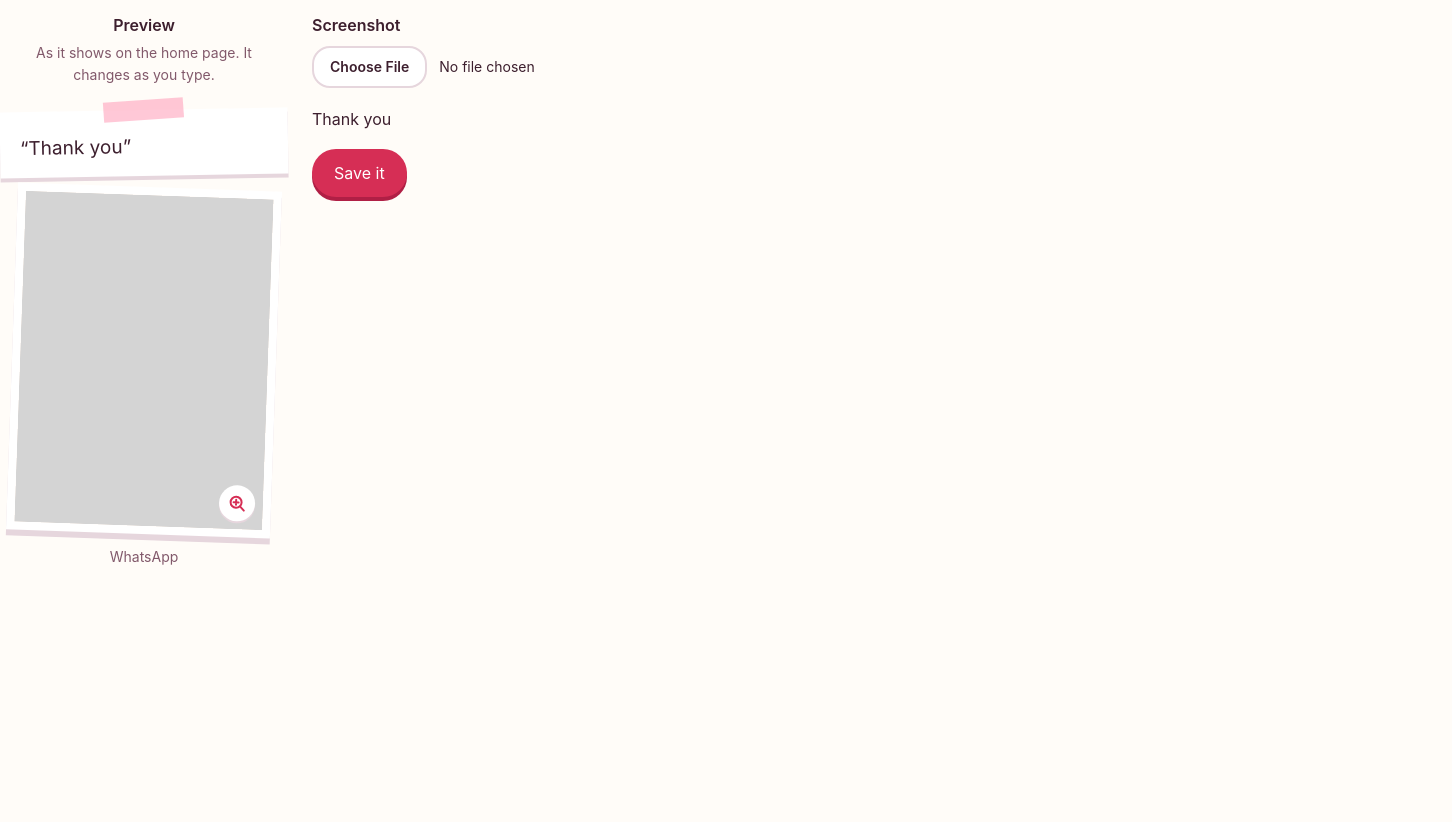
Scenario: TestimonialForm › asks for the image before adding a new item
Click the button "Save it" at (359, 173), box [312,149,407,197]
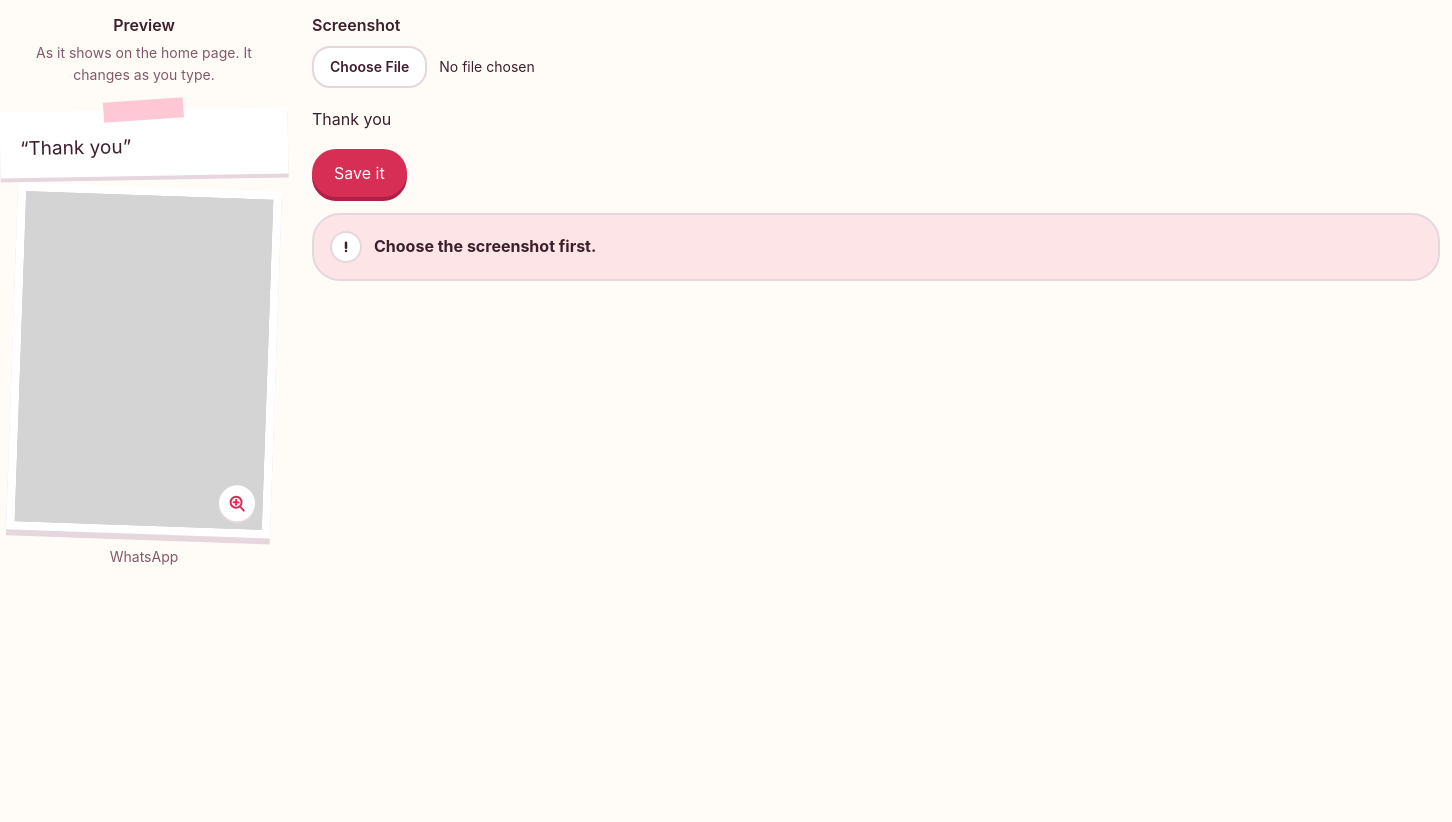
Result: the text "Choose the screenshot first." is shown at [374,233,596,259]
